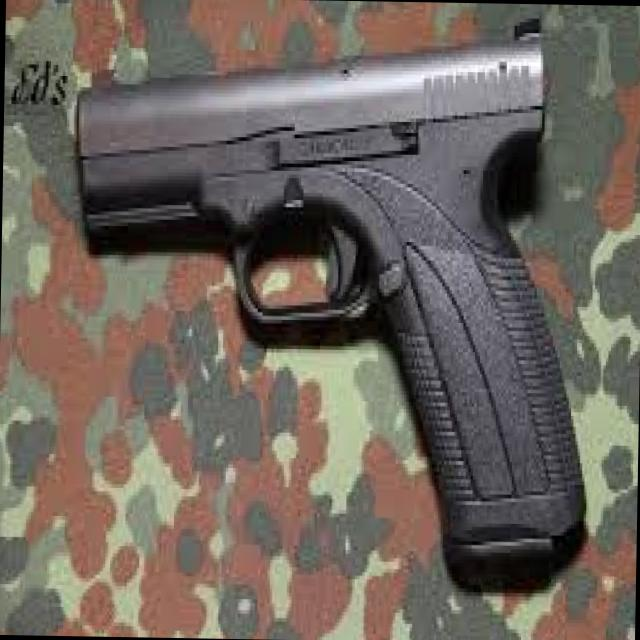Gun: (63, 25, 604, 590)
